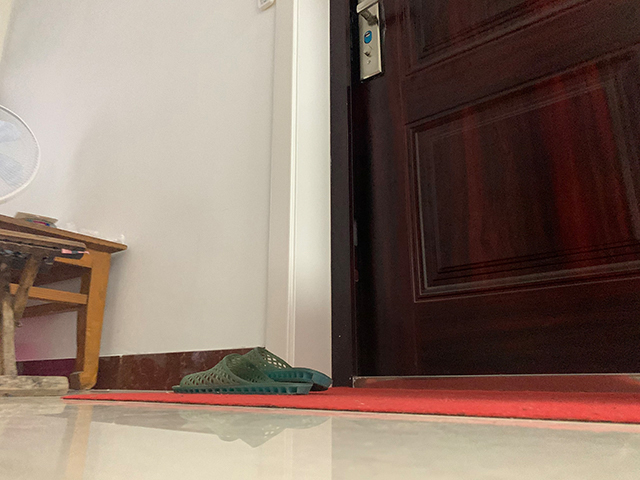carpet: (61, 384, 640, 424)
slippers: (171, 344, 332, 395)
stool: (2, 229, 87, 398)
